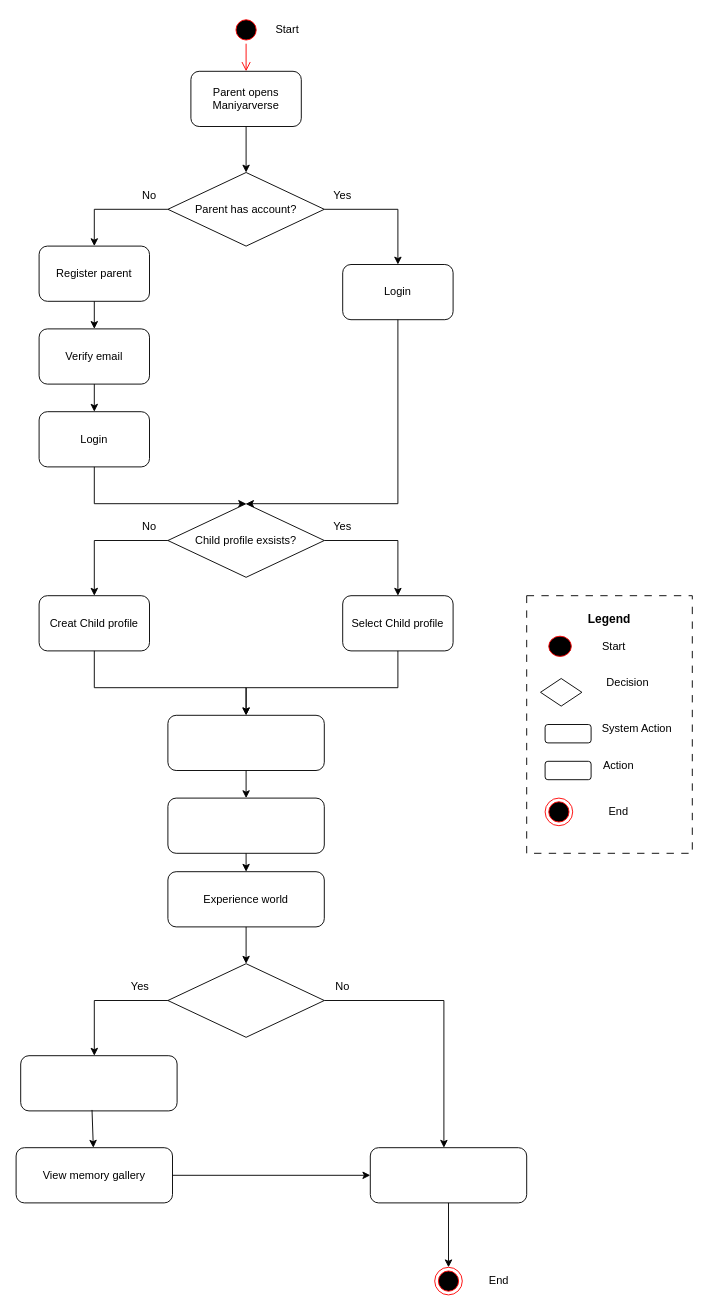
Some shapes in this 708 by 1311 pixel diagram are drawn without their labels. Each missing label, with the centre of its shape:
Add memory?: (x=245, y=1000)
First meeting with Maniyar: (x=245, y=742)
Select world: Joy/ calm/ Inner: (x=245, y=825)
Upload memory: (x=98, y=1083)
View parent summary: (x=448, y=1175)
